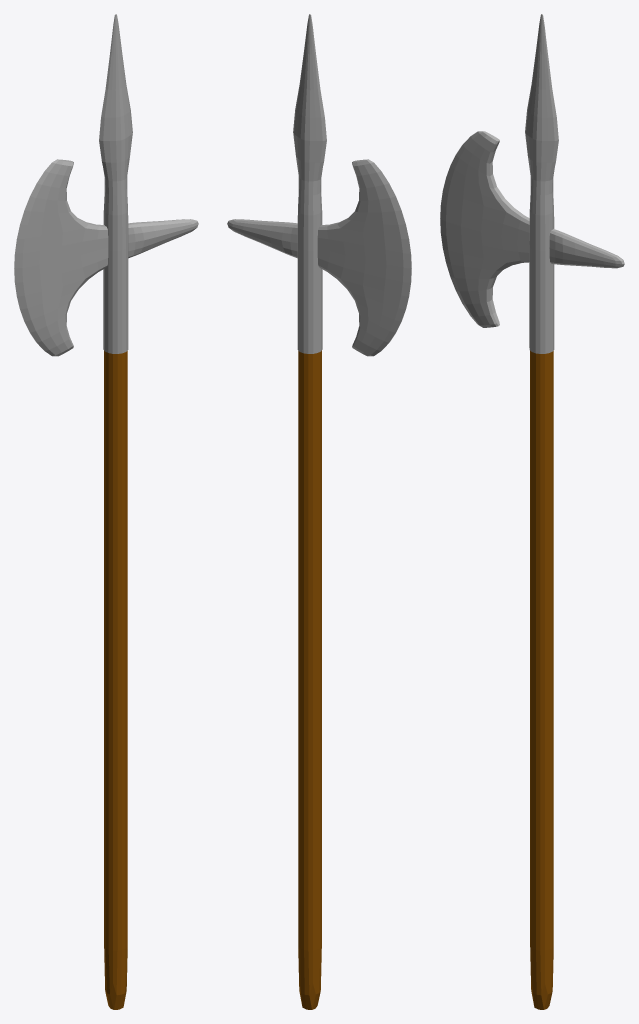
Rendered from Halbert.fbx.
3 views of the same model, side by side, from view 1: azimuth 30°, elevation 25°; view 2: azimuth 150°, elevation 25°; view 3: azimuth 330°, elevation 25° (orthographic).
Parts seen in each view (by area): view 1: Plane.008; view 2: Plane.008; view 3: Plane.008.
Boxes of the visible parts, box(x1,y1,x2,y2) form: Plane.008: box(14, 14, 198, 1009); Plane.008: box(227, 14, 411, 1009); Plane.008: box(440, 14, 624, 1009).
Bounding box in the file's own units: 14.35 × 73.88 × 1.7.
